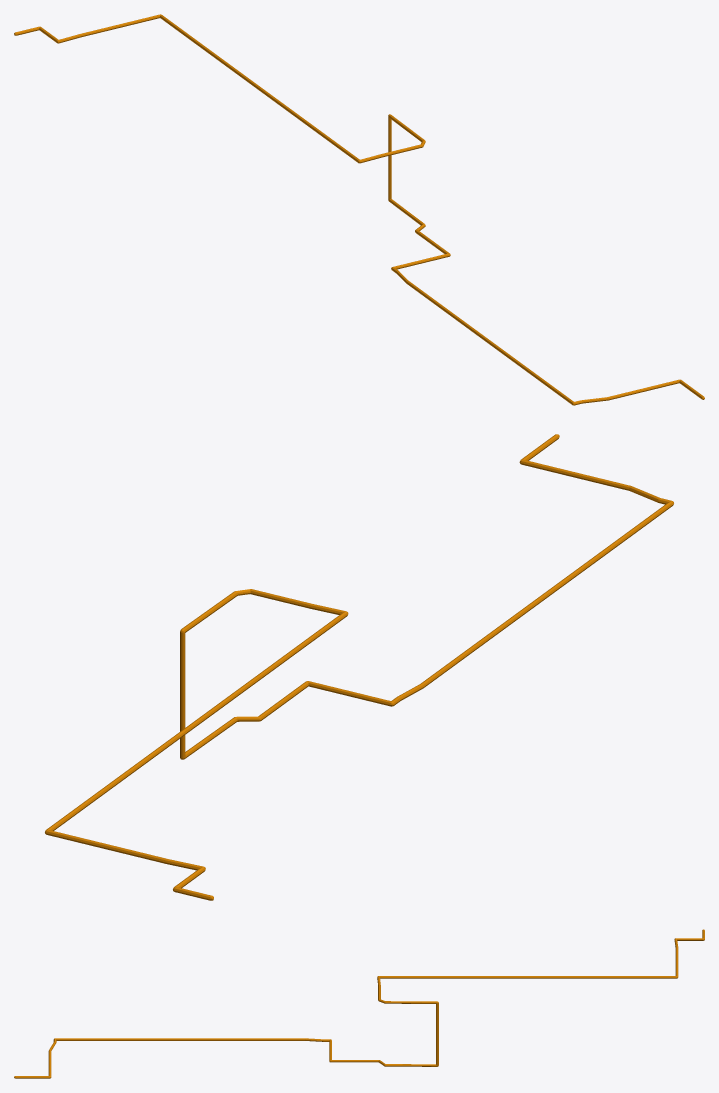
The picture shows the model from 3 angles, top to bottom: view 1: azimuth 30°, elevation 25°; view 2: azimuth 150°, elevation 25°; view 3: azimuth 270°, elevation 25°; orthographic projection. The views are drawn at different scales.
Size of the model in its own units: 1446 by 520 by 4979.
